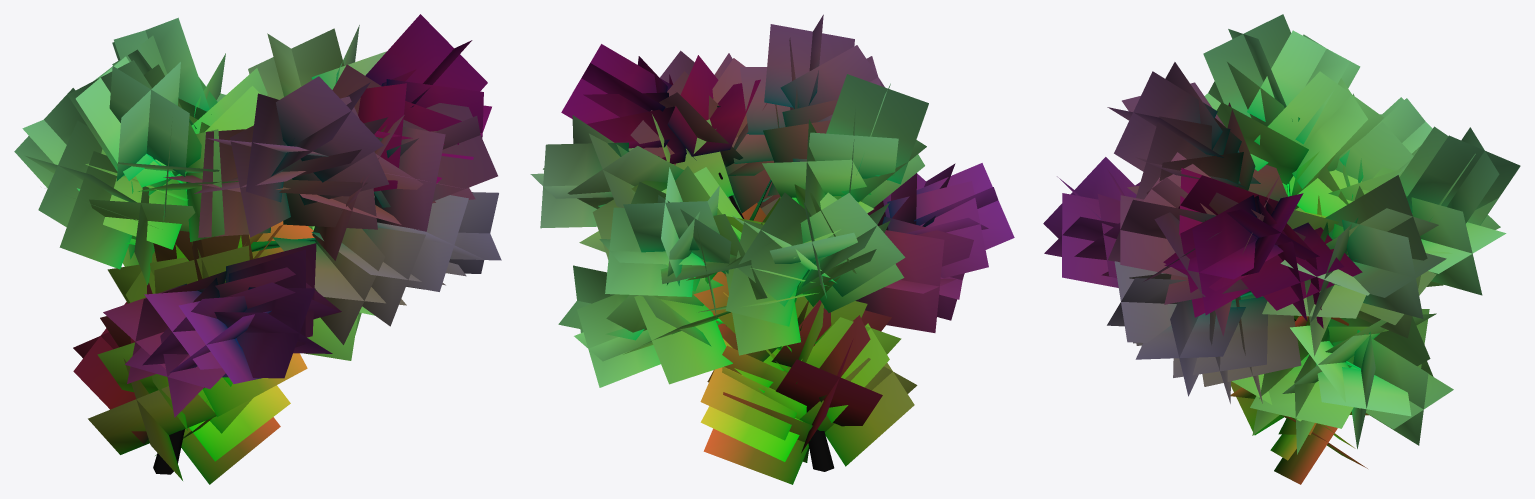
File: URP_P3_Tree_11_LOD_3.fbx
3 renders of one model, left to right at view 1: azimuth 30°, elevation 25°; view 2: azimuth 150°, elevation 25°; view 3: azimuth 270°, elevation 25°, orthographic. The views are drawn at different scales.
Visible parts, largest first — view 1: Tree_11_LOD_3; view 2: Tree_11_LOD_3; view 3: Tree_11_LOD_3.
Boxes of the visible parts, bbox=[...] form: Tree_11_LOD_3: bbox=[14, 14, 501, 484]; Tree_11_LOD_3: bbox=[530, 14, 1014, 484]; Tree_11_LOD_3: bbox=[1043, 14, 1520, 484].
Size of the model in its own units: 499 by 515 by 530.
